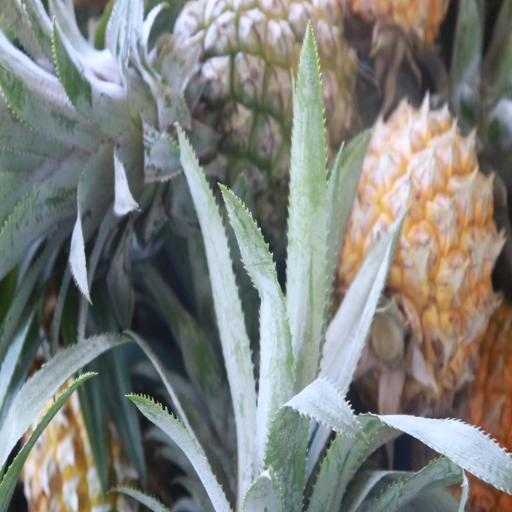Pineapple - v8 v1: (344, 110, 501, 392)
